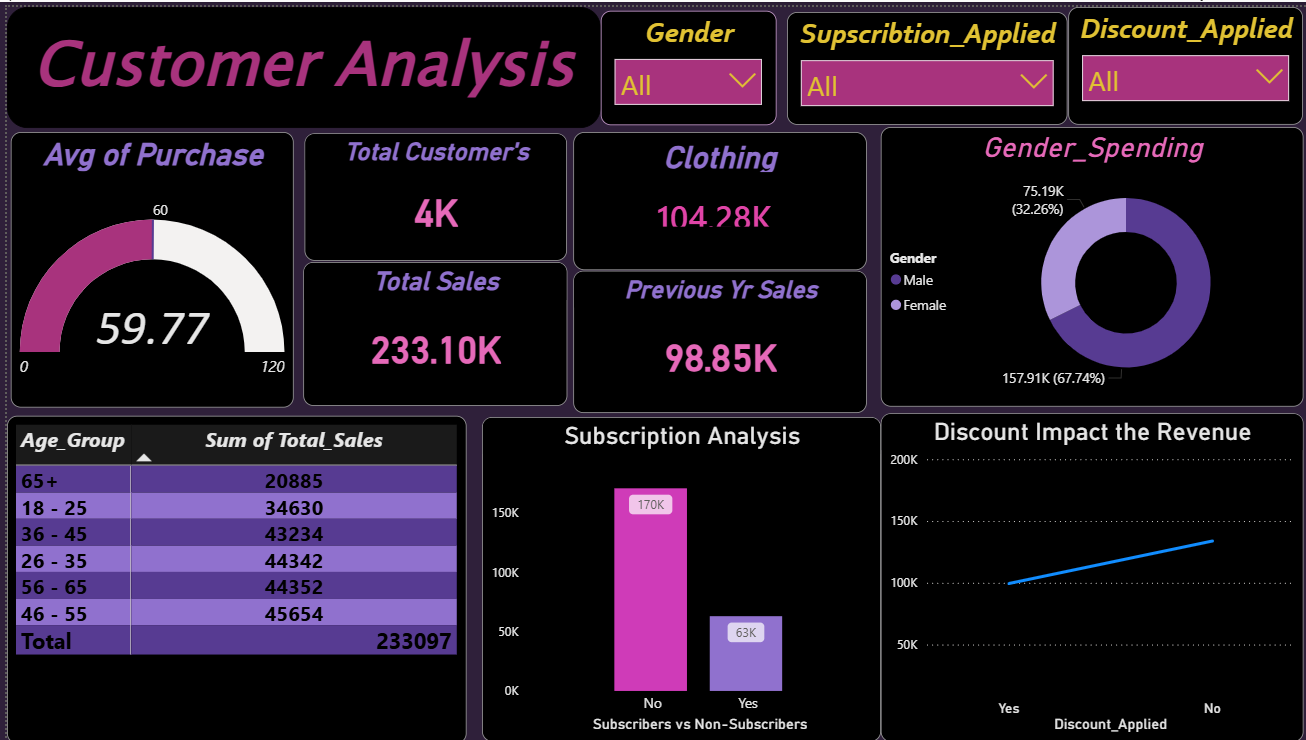

This screenshot's page, from the dashboard's own definition file:
{"tool":"powerbi","page":{"name":"Customer Analysis","canvas":[1280,720],"ordinal":0},"visuals":[{"type":"lineClusteredColumnComboChart","title":"Subscription Analysis","fields":{"Category":["Subscribtn.Subscription_Status"],"Y":["Max(Subscribtn.Total_Spending)"]},"box":[464.6,400.8,390.6,317.8],"z":0},{"type":"cardVisual","title":"Total Customer''s","fields":{"Data":["Max(Total customer.No_of_Customers)"]},"box":[291,123.5,256.8,124.7],"z":1000},{"type":"cardVisual","title":"Total Sales","fields":{"Data":["Sum(Total Revenue.Total_Revenue)"]},"box":[289.8,249.5,258,140.6],"z":2000},{"type":"gauge","title":"Avg of Purchase","fields":{"Y":["Avg(customer_data.Purchase_Amount_USD)"]},"box":[3.8,122.5,277,269.3],"z":3000},{"type":"lineChart","title":"Discount Impact the Revenue","fields":{"Category":["customer_data.Discount_Applied"],"Y":["Sum(customer_data.Purchase_Amount_USD)"]},"box":[854.8,397.4,413.3,321.6],"z":4000},{"type":"cardVisual","fields":{"Rows":["customer_data.Category"],"Data":["Sum(customer_data.Purchase_Amount_USD)"]},"box":[554,122.5,287.2,135.3],"z":5000},{"type":"pivotTable","fields":{"Rows":["Age_vise sales analysis.Age_Group"],"Values":["Sum(Age_vise sales analysis.Total_Sales)"]},"box":[0,400.2,449.3,320.5],"z":6000},{"type":"textbox","box":[0,0,581.1,118.1],"z":7000},{"type":"donutChart","title":"Gender_Spending","fields":{"Category":["customer_data.Gender"],"Y":["Sum(customer_data.Purchase_Amount_USD)"]},"box":[854.8,117.4,413.3,273.9],"z":8000},{"type":"slicer","title":"Gender","fields":{"Values":["customer_data.Gender"]},"box":[581.1,3.1,171.7,111.9],"z":9000},{"type":"slicer","title":"Supscribtion_Applied","fields":{"Values":["customer_data.Subscription_Status"]},"box":[763.6,4.6,274.5,110.4],"z":10000},{"type":"slicer","title":"Discount_Applied","fields":{"Values":["customer_data.Category"]},"box":[1038,0,230,115],"z":11000},{"type":"cardVisual","title":"Previous Yr Sales","fields":{"Data":["Sum(customer_data.Previous_Purchases)"]},"box":[553.9,258,287.4,139.4],"z":12000}]}

Visuals, with their boxes in screenshot pixels (x1, y1, x2, y2), scaled from the page's 1280x720 canvas onto the 1306x740 screenshot:
"Subscription Analysis" lineClusteredColumnComboChart: rect(474, 412, 873, 739)
"Total Customer''s" cardVisual: rect(297, 127, 559, 255)
"Total Sales" cardVisual: rect(296, 256, 559, 401)
"Avg of Purchase" gauge: rect(4, 126, 287, 403)
"Discount Impact the Revenue" lineChart: rect(872, 408, 1294, 739)
cardVisual - customer_data.Category x Sum(customer_data.Purchase_Amount_USD): rect(565, 126, 858, 265)
pivotTable - Age_vise sales analysis.Age_Group x Sum(Age_vise sales analysis.Total_Sales): rect(0, 411, 458, 739)
textbox: rect(0, 0, 593, 121)
"Gender_Spending" donutChart: rect(872, 121, 1294, 402)
"Gender" slicer: rect(593, 3, 768, 118)
"Supscribtion_Applied" slicer: rect(779, 5, 1059, 118)
"Discount_Applied" slicer: rect(1059, 0, 1294, 118)
"Previous Yr Sales" cardVisual: rect(565, 265, 858, 408)
